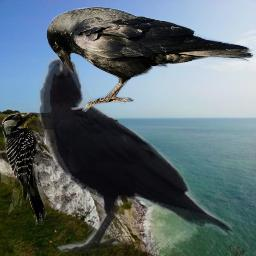Crow: (36, 56, 234, 253), (46, 6, 255, 112)
Woodpecker: (1, 112, 57, 226)
